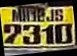character: (22, 24, 41, 44), (54, 23, 72, 44), (3, 23, 21, 43), (41, 24, 54, 44), (54, 8, 63, 21), (45, 9, 54, 21)
